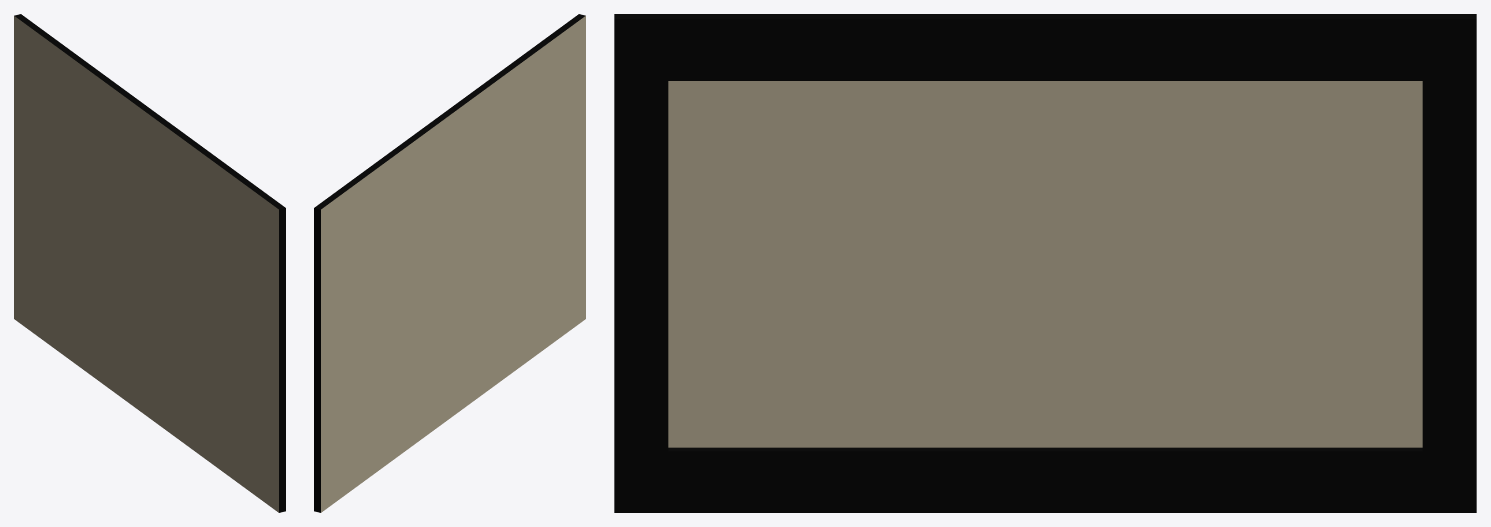
The model's file is Leinwand.fbx.
3 views of the same model, side by side, from view 1: azimuth 30°, elevation 25°; view 2: azimuth 150°, elevation 25°; view 3: azimuth 270°, elevation 25° (orthographic). The views are drawn at different scales.
Parts seen in each view (by area): view 1: Leinwand; view 2: Leinwand; view 3: Leinwand.
Boxes of the visible parts, box(x1,y1,x2,y2) form: Leinwand: box(14, 14, 285, 512); Leinwand: box(314, 14, 585, 512); Leinwand: box(614, 14, 1476, 512).
Bounding box in the file's own units: 30 × 1263 × 2000.
